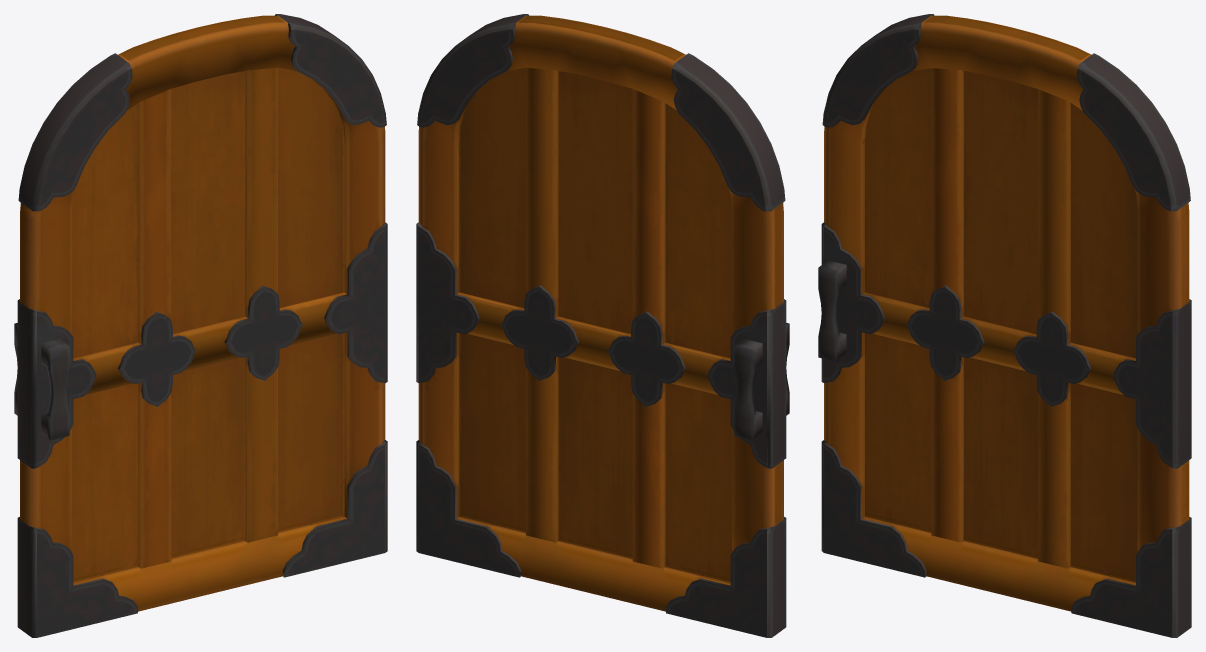
The model's file is door_japanese_ar.glb.
The picture shows the model from 3 angles, left to right: view 1: azimuth 30°, elevation 25°; view 2: azimuth 150°, elevation 25°; view 3: azimuth 330°, elevation 25°; orthographic projection.
Visible parts, largest first — view 1: BodyR4_1__mDoorR; view 2: BodyR4_1__mDoorR; view 3: BodyR4_1__mDoorR.
Boxes of the visible parts, bbox=[...] form: BodyR4_1__mDoorR: bbox=[14, 14, 387, 637]; BodyR4_1__mDoorR: bbox=[416, 14, 789, 637]; BodyR4_1__mDoorR: bbox=[818, 14, 1191, 637].
Bounding box in the file's own units: 12 × 18 × 2.16.
1 material, 1 textured.
